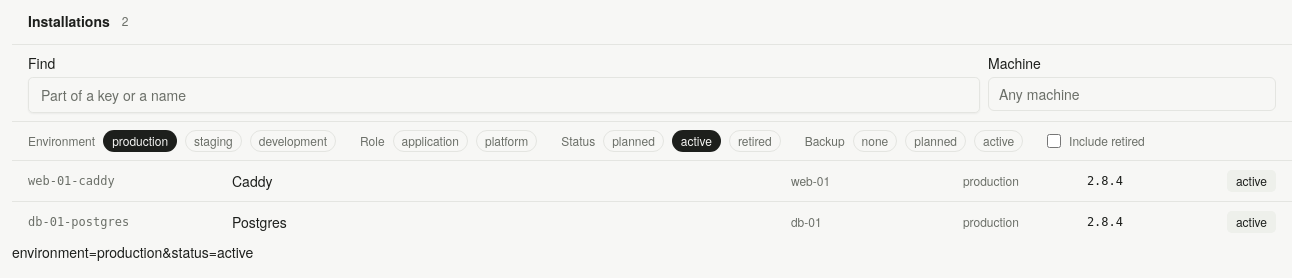
Test case: the installations (VISION 7) › narrows to one machine from the list itself
Expected: the link "web-01-caddy Caddy web-01 production 2.8.4 active" is shown, [28, 170, 1276, 192]
Click the dropdown labelled "Machine" at (1132, 94), box [995, 82, 1269, 106]
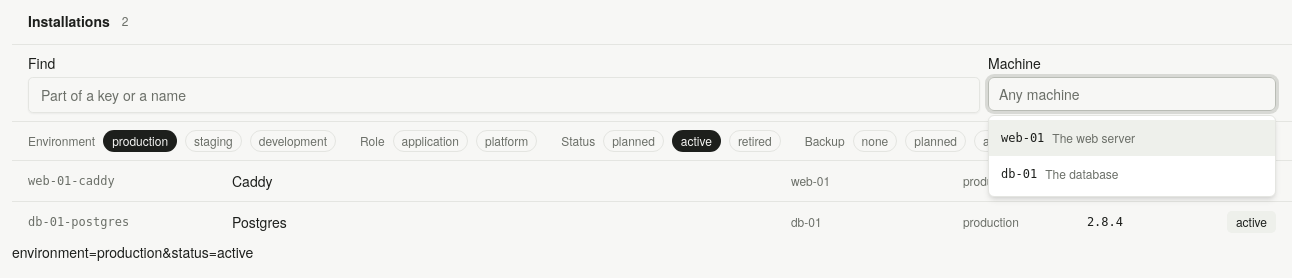
Click the option "db-01 The database" at (1060, 174), box [1001, 165, 1118, 182]
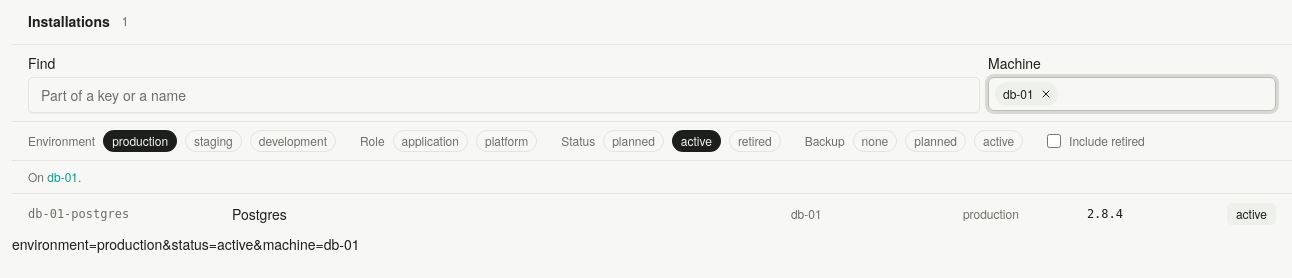
Expected: the text with test id "address" shows "machine=db-01", [12, 234, 360, 254]
